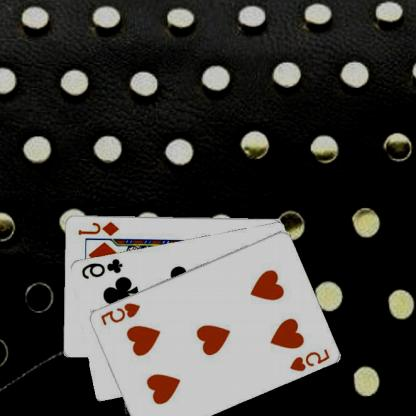5H: (99, 300, 143, 327), (288, 346, 332, 373)
6C: (80, 255, 125, 280)
JD: (77, 219, 122, 237)
